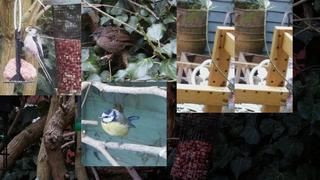blue tit: (98, 108, 140, 149)
dunnock: (88, 27, 150, 61)
long tailed tit: (21, 27, 55, 89)
